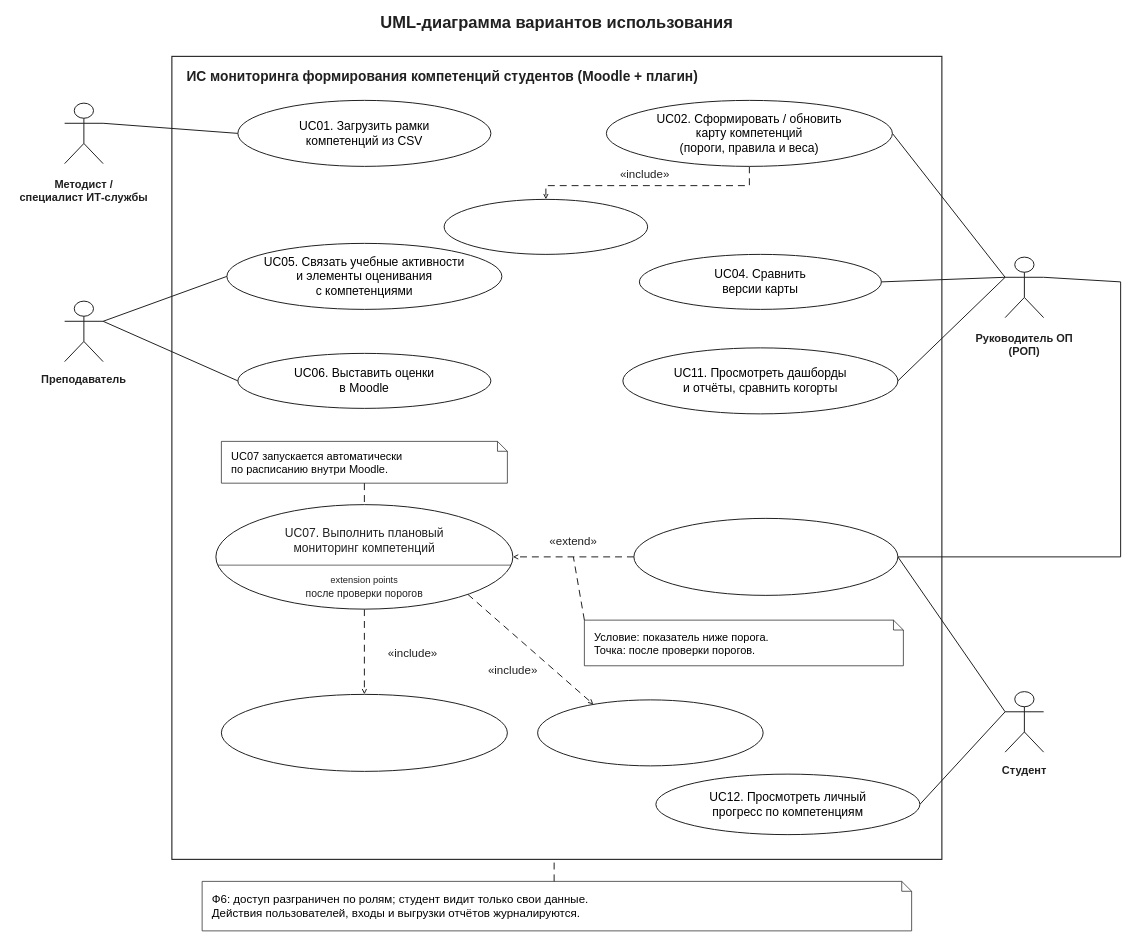
Image size: 1131x941. Some labels were removed from this diagram. Each missing label, with the centre of its shape:
UC03. Сохранить новую версию карты: [545,227]
UC08. Получить оценки и данные о завершении активностей из Moodle: [364,733]
UC09. Рассчитать показатели освоения компетенций и проверить пороги: [650,732]
UC10. Уведомить студента и РОП об отставании: [765,557]
